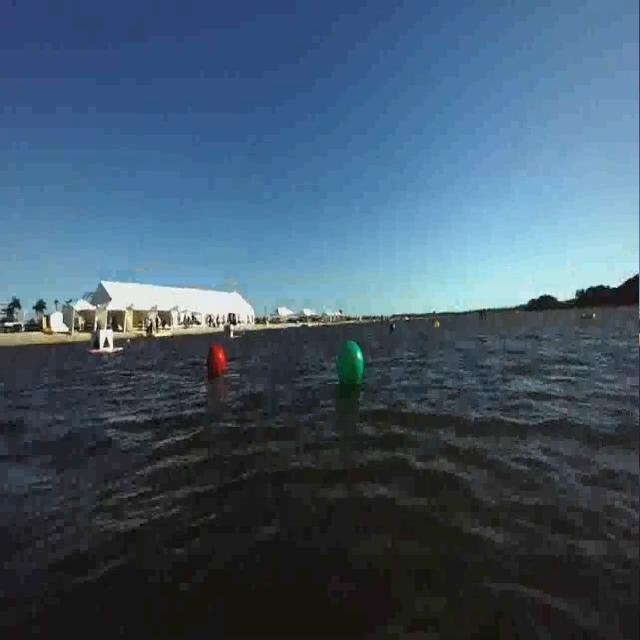green-buoy: (338, 338, 367, 386)
red-buoy: (207, 344, 225, 375)
yellow-buoy: (434, 320, 439, 330)
